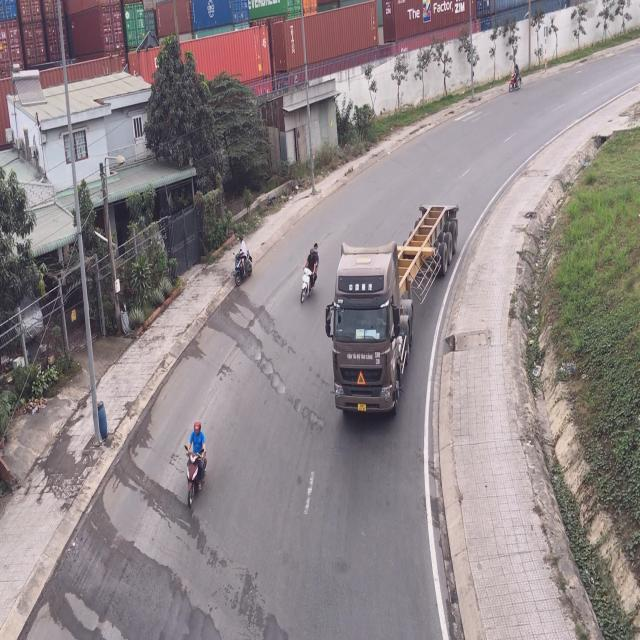motorbike: (188, 421, 210, 504), (302, 242, 321, 306), (234, 240, 254, 287), (507, 62, 523, 93)
truck: (332, 199, 461, 417)
